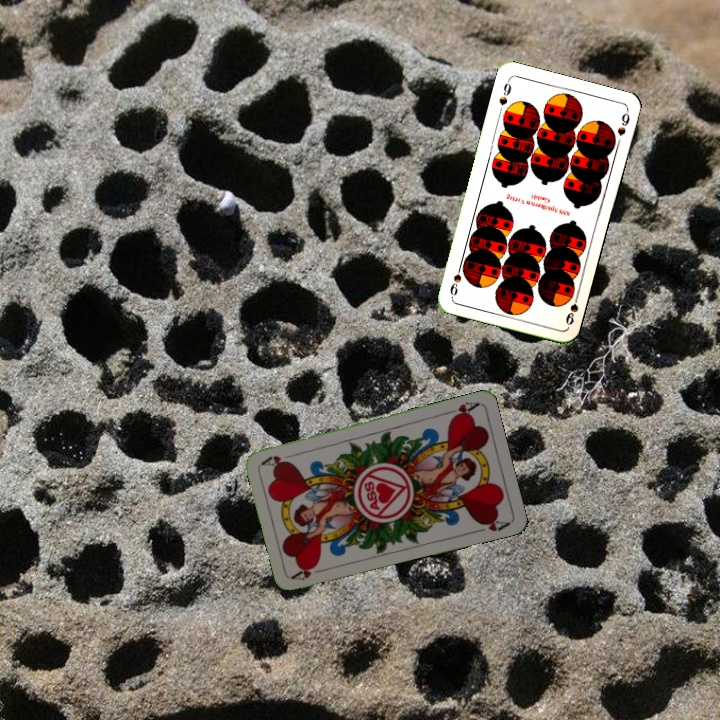HA: (441, 398, 481, 422), (289, 561, 329, 583)
S9: (562, 289, 581, 328), (495, 75, 514, 108)
